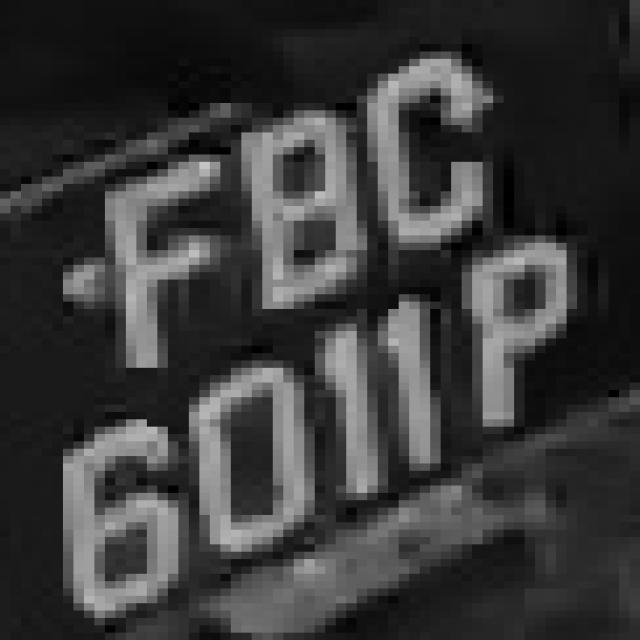0: (168, 376, 325, 544)
1: (294, 294, 378, 544), (367, 287, 451, 493)
6: (21, 412, 199, 625)
B: (199, 96, 378, 309)
C: (356, 44, 504, 250)
F: (73, 147, 231, 361)
P: (462, 243, 598, 397)
